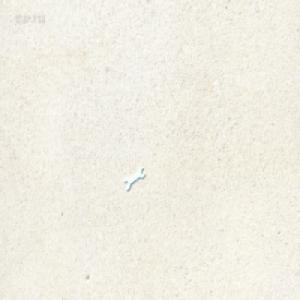Wrench: (124, 167, 146, 193)
